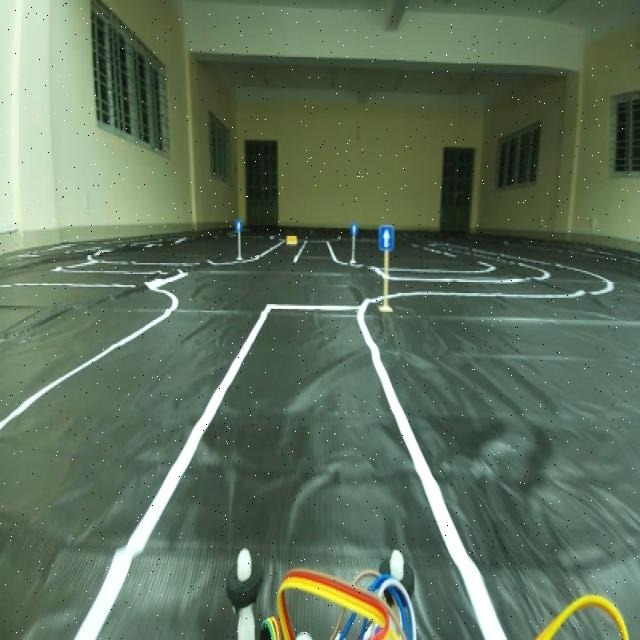onewayroad: (378, 222, 394, 258), (350, 220, 358, 235), (234, 216, 242, 231)
roadblock: (284, 225, 298, 247)
